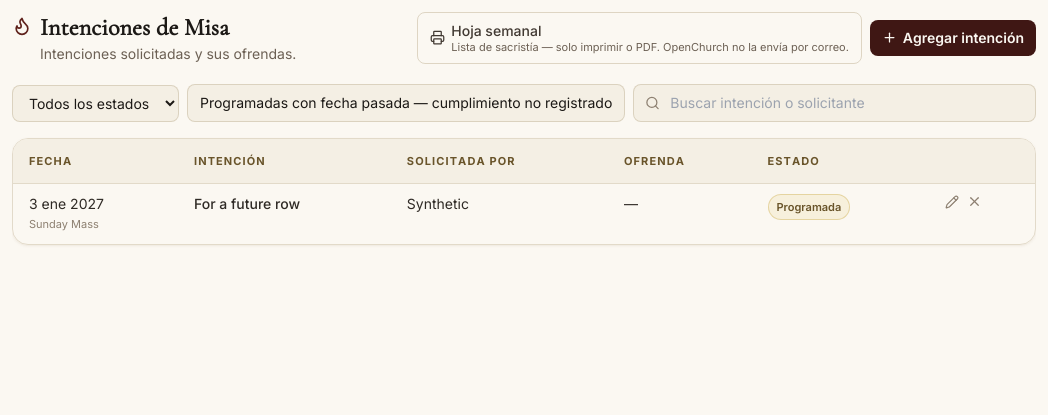
Test: SP-064 past scheduled indicator + filter › ES empty
The width and height of the screenshot is (1048, 415).
Expected: the text "For a future row" is shown, x1=178 y1=184 x2=391 y2=244
Click the button with test id "mi-past-filter": coordinates (406, 103) x1=187 y1=84 x2=625 y2=122
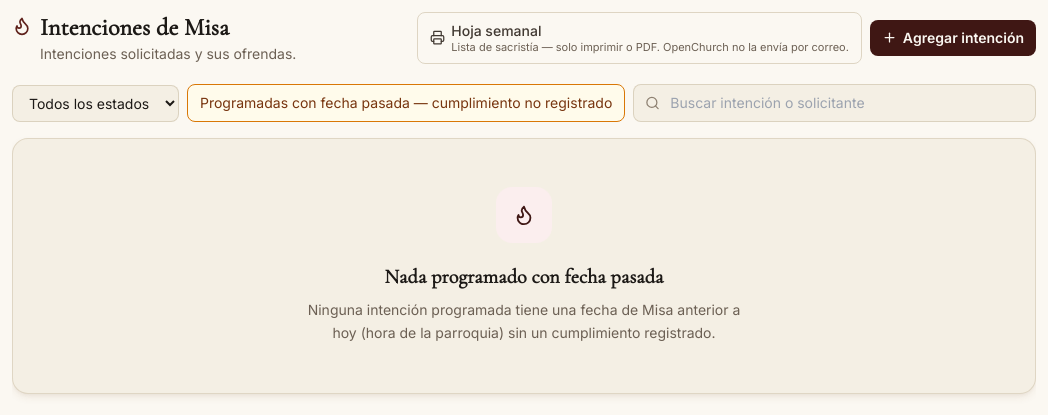
Expected: the heading "Nada programado con fecha pasada" is shown, x1=384 y1=265 x2=664 y2=289
